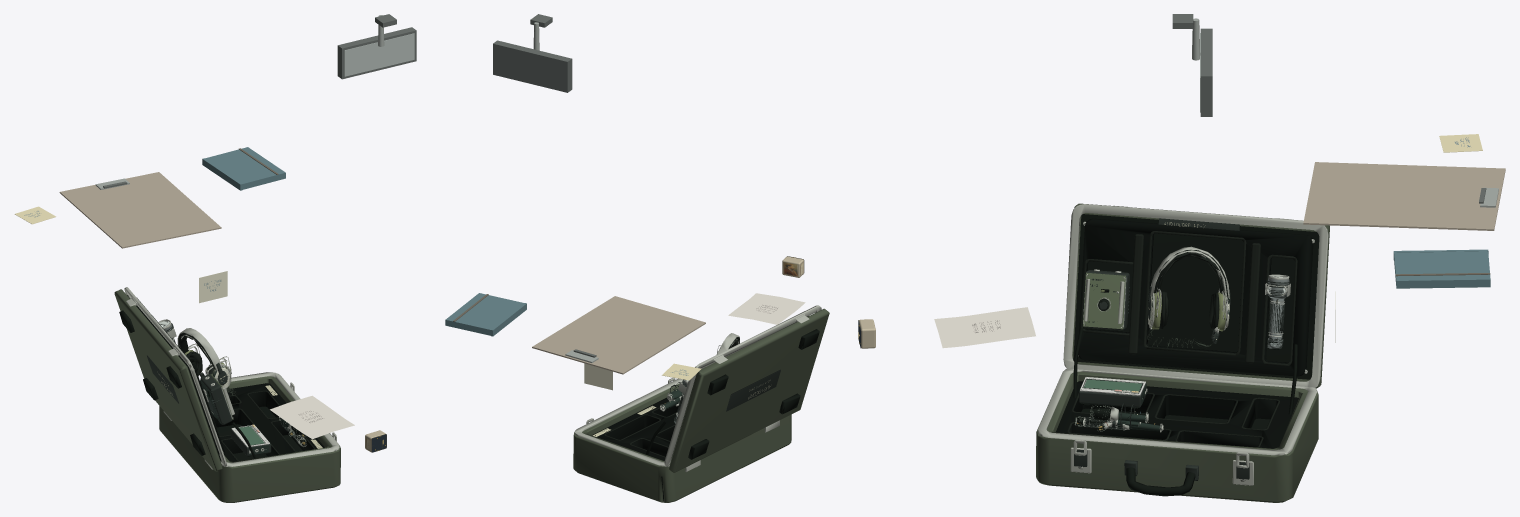
The model's file is opening-cab-objects.glb.
3 views of the same model, side by side, from view 1: azimuth 30°, elevation 25°; view 2: azimuth 150°, elevation 25°; view 3: azimuth 270°, elevation 25° (orthographic). The views are drawn at different scales.
Visible parts, largest first — view 1: opening_cab_field_case, opening_cab_clipboard, opening_cab_mirror, opening_cab_notebook, opening_cab_recital_programme, opening_cab_headphones_reference, opening_cab_first_take_note, opening_cab_field_recorder_body, opening_cab_amp_low_draw, opening_cab_headphones_closed, opening_cab_amp_reference; view 2: opening_cab_field_case, opening_cab_clipboard, opening_cab_mirror, opening_cab_notebook, opening_cab_recital_programme, opening_cab_first_take_note, opening_cab_music_box; view 3: opening_cab_field_case, opening_cab_clipboard, opening_cab_notebook, opening_cab_recital_programme, opening_cab_amp_low_draw, opening_cab_headphones_open, opening_cab_mirror, opening_cab_field_recorder_body, opening_cab_headphones_reference, opening_cab_headphones_closed, opening_cab_microphone_reference, opening_cab_practice_note.
Part boxes in pixels (x1,y1,x2,y2): opening_cab_field_case: (114, 287, 340, 502); opening_cab_clipboard: (59, 172, 221, 248); opening_cab_mirror: (337, 14, 416, 79); opening_cab_notebook: (202, 147, 285, 190); opening_cab_recital_programme: (270, 395, 354, 439); opening_cab_headphones_reference: (177, 328, 235, 395); opening_cab_first_take_note: (199, 271, 227, 303); opening_cab_field_recorder_body: (231, 425, 271, 456); opening_cab_amp_low_draw: (200, 374, 234, 424); opening_cab_headphones_closed: (179, 334, 232, 392); opening_cab_amp_reference: (200, 381, 233, 423); opening_cab_field_case: (573, 305, 829, 502); opening_cab_clipboard: (532, 296, 705, 374); opening_cab_mirror: (493, 14, 572, 92); opening_cab_notebook: (445, 293, 526, 336); opening_cab_recital_programme: (728, 293, 805, 324); opening_cab_first_take_note: (584, 363, 612, 390); opening_cab_music_box: (782, 256, 804, 277); opening_cab_field_case: (1036, 203, 1329, 502); opening_cab_clipboard: (1303, 162, 1505, 230); opening_cab_notebook: (1393, 249, 1490, 288); opening_cab_recital_programme: (934, 307, 1035, 348); opening_cab_amp_low_draw: (1082, 269, 1129, 330); opening_cab_headphones_open: (1148, 250, 1228, 346); opening_cab_mirror: (1172, 14, 1212, 116); opening_cab_field_recorder_body: (1079, 376, 1147, 408); opening_cab_headphones_reference: (1147, 246, 1230, 347); opening_cab_headphones_closed: (1150, 255, 1229, 343); opening_cab_microphone_reference: (1090, 403, 1148, 428); opening_cab_practice_note: (1439, 134, 1482, 152).
Bounding box in the file's own units: 0.9564 × 1.26 × 1.37.
69 materials, 10 textured.
